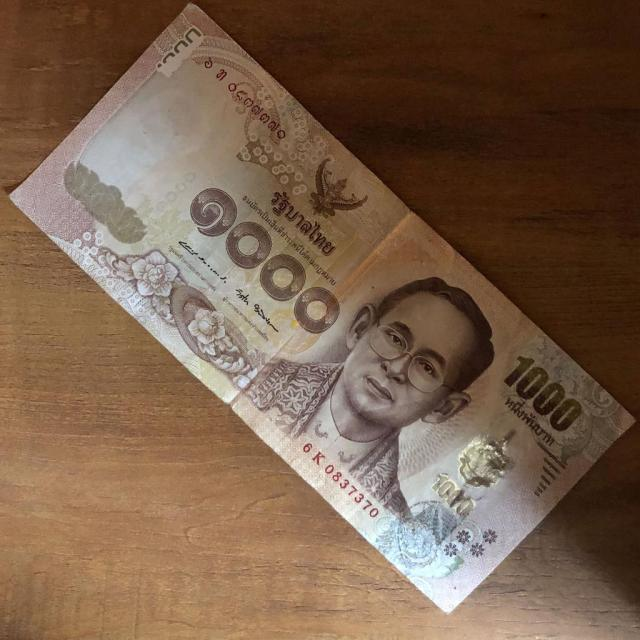THAI1000: (11, 4, 634, 611)
